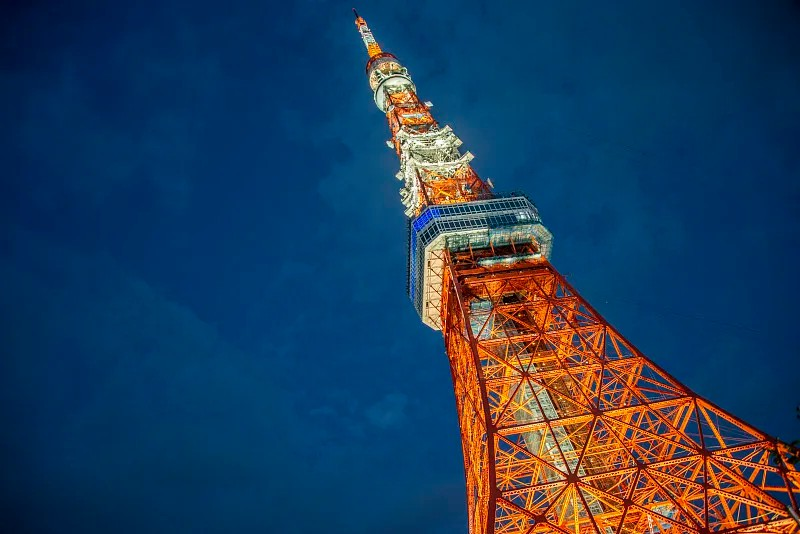Tokyo: (346, 7, 800, 534)
